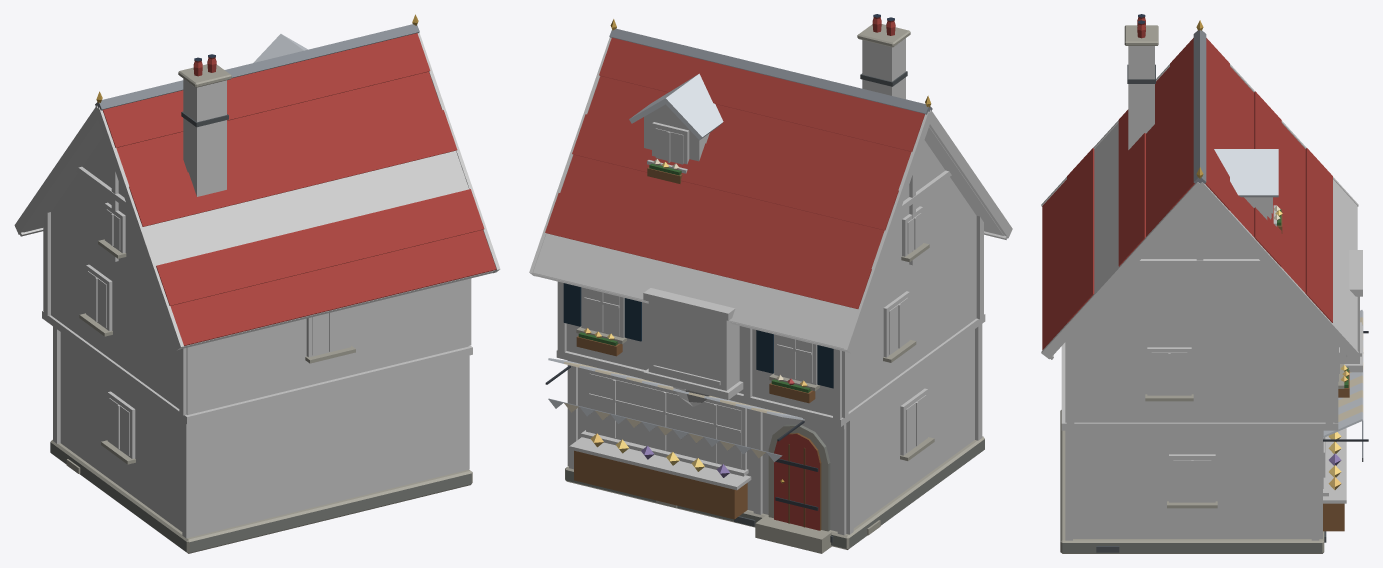
The model's file is TimberShopfront.obj.
3 views of the same model, side by side, from view 1: azimuth 30°, elevation 25°; view 2: azimuth 150°, elevation 25°; view 3: azimuth 270°, elevation 25° (orthographic). The views are drawn at different scales.
Size of the model in its own units: 13.98 by 18.72 by 12.9.
